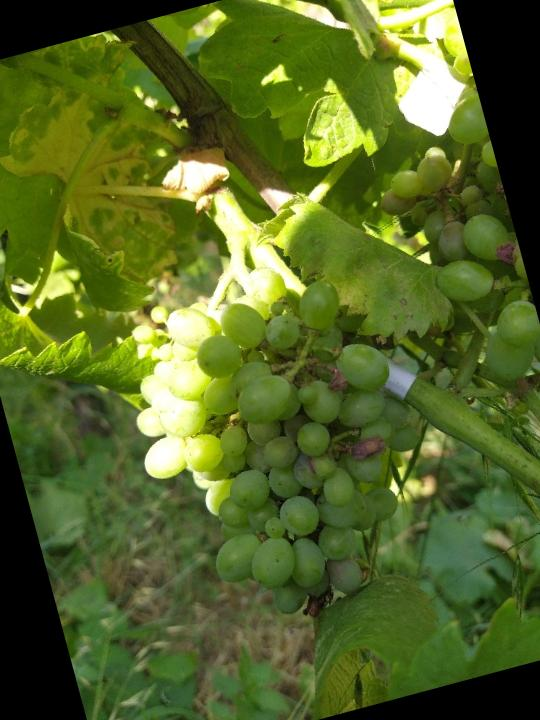grape: (99, 240, 446, 643)
